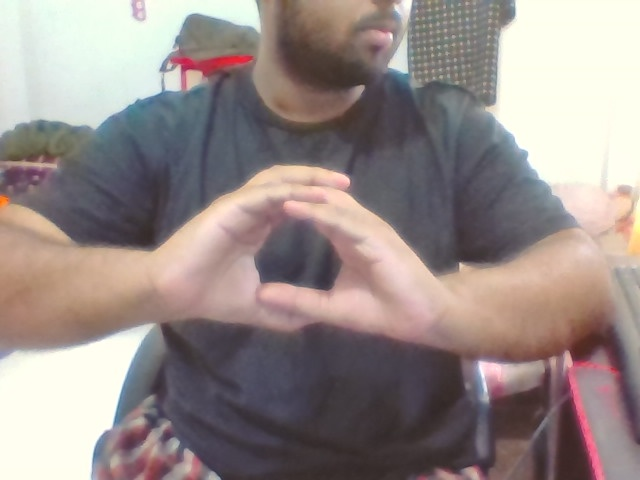O: (175, 153, 416, 370)
